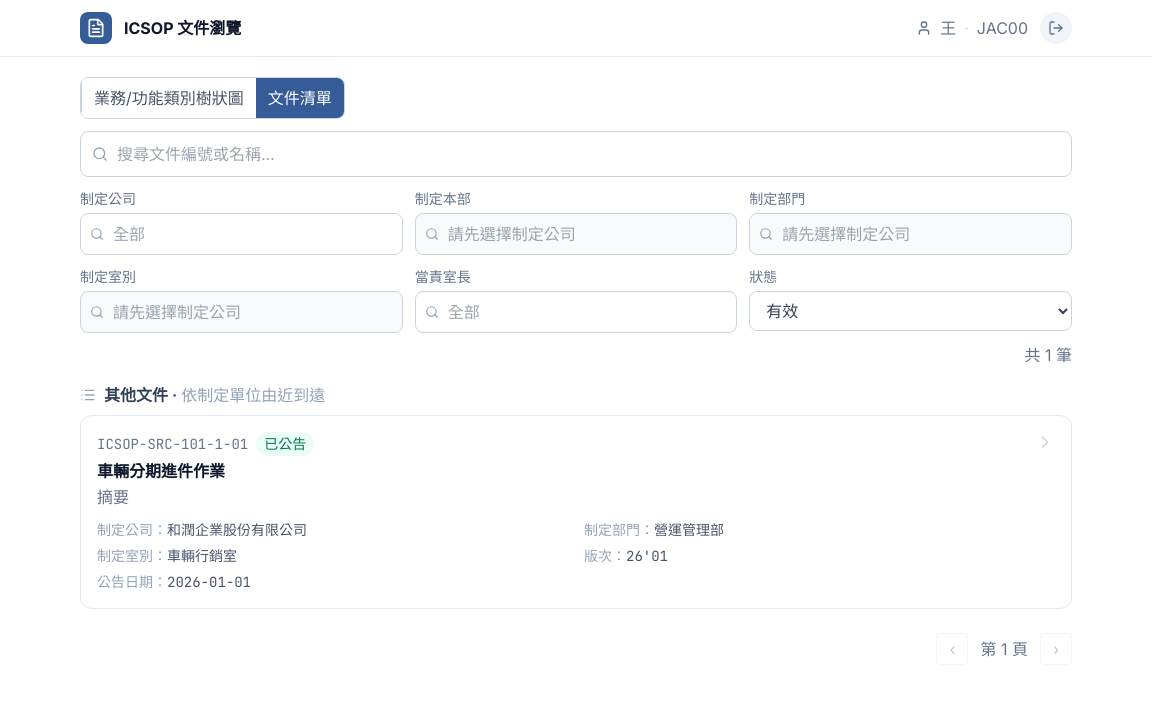
Test: AC-OC1：公司未選時鎖定下級三欄 › disabled＋placeholder「請先選擇制定公司」；選公司後開放
Expected: the heading "車輛分期進件作業" is shown, [97,461,225,481]
Expected: the dropdown labelled "制定本部" is disabled, [415,213,737,255]
Click the dropdown labelled "制定公司". click: x=241, y=234
box: [80,213,403,255]
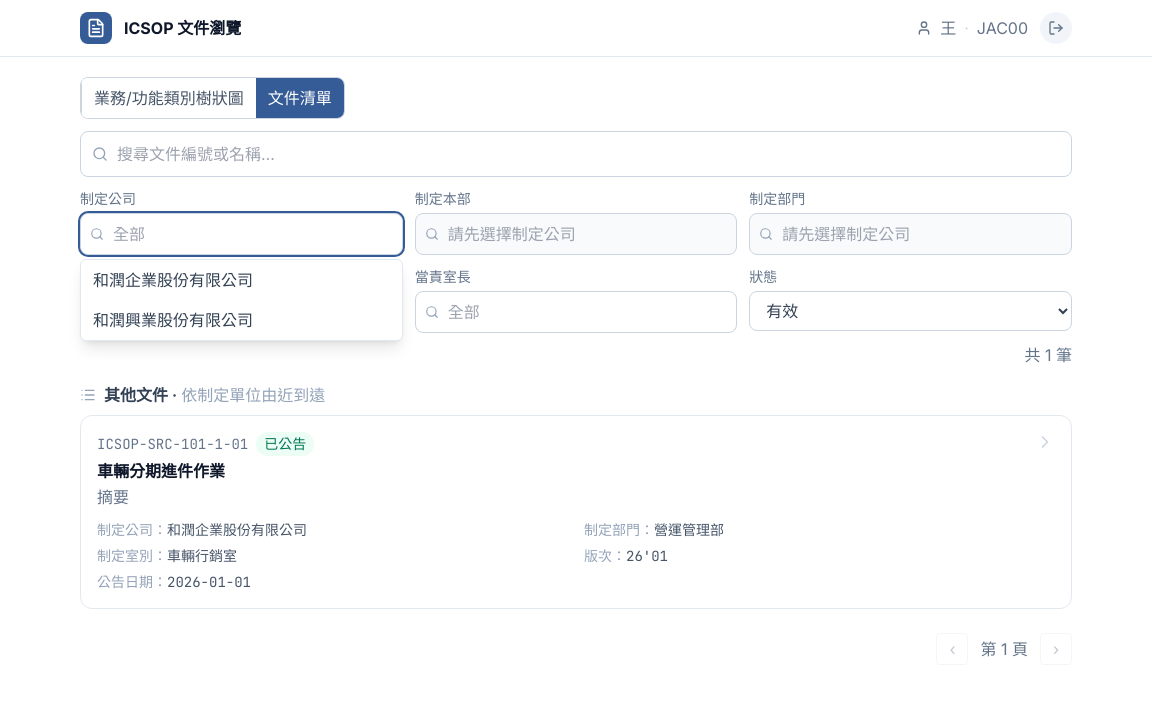
Click the option "和潤興業股份有限公司". click: x=241, y=320
box: [81,300,402,340]
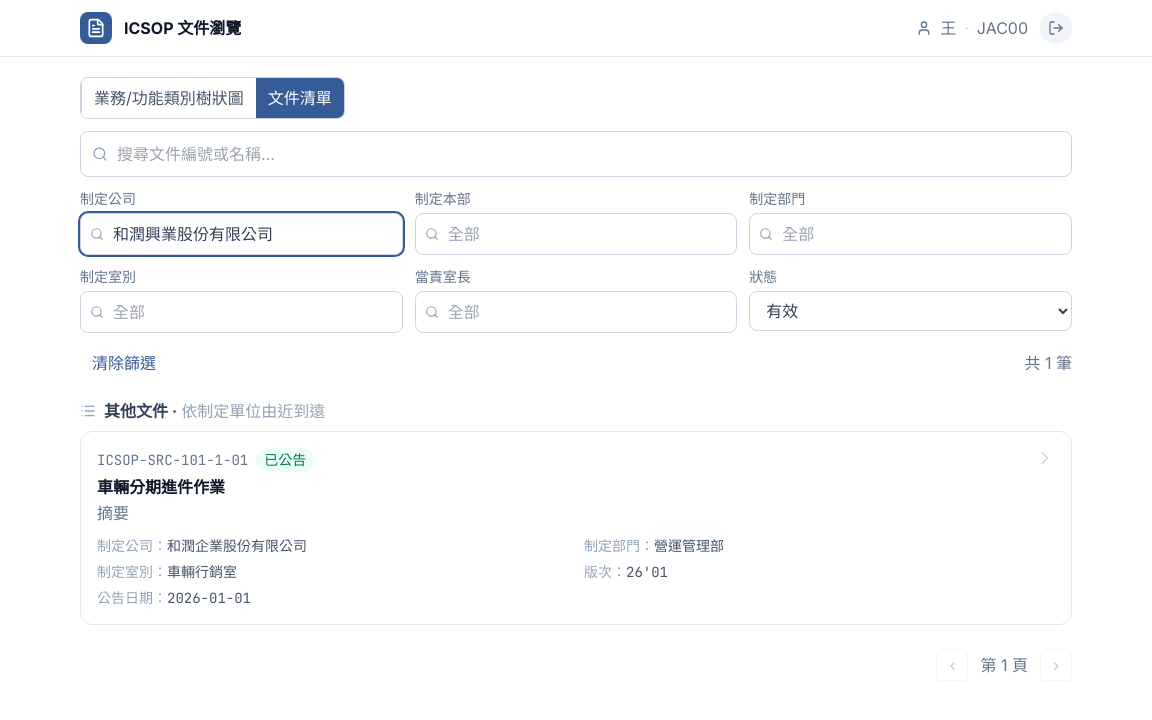
Expected: the dropdown labelled "制定本部" is enabled, [415,213,737,255]
Expected: the dropdown labelled "制定部門" is enabled, [749,213,1072,255]
Expected: the dropdown labelled "制定室別" is enabled, [80,291,403,333]
